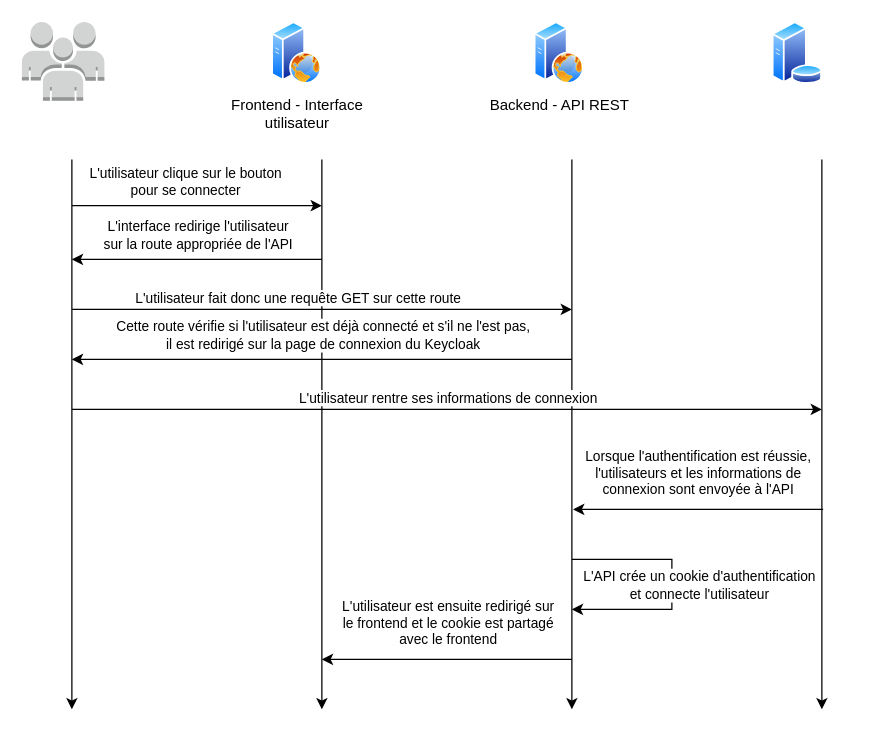
Some shapes in this 879 by 741 pixel diagram are drawn without their labels. Each missing label, with the box of its shape:
Serveux Keycloak: (771, 21, 822, 84)
Utilisateurs: (21, 21, 104, 101)
